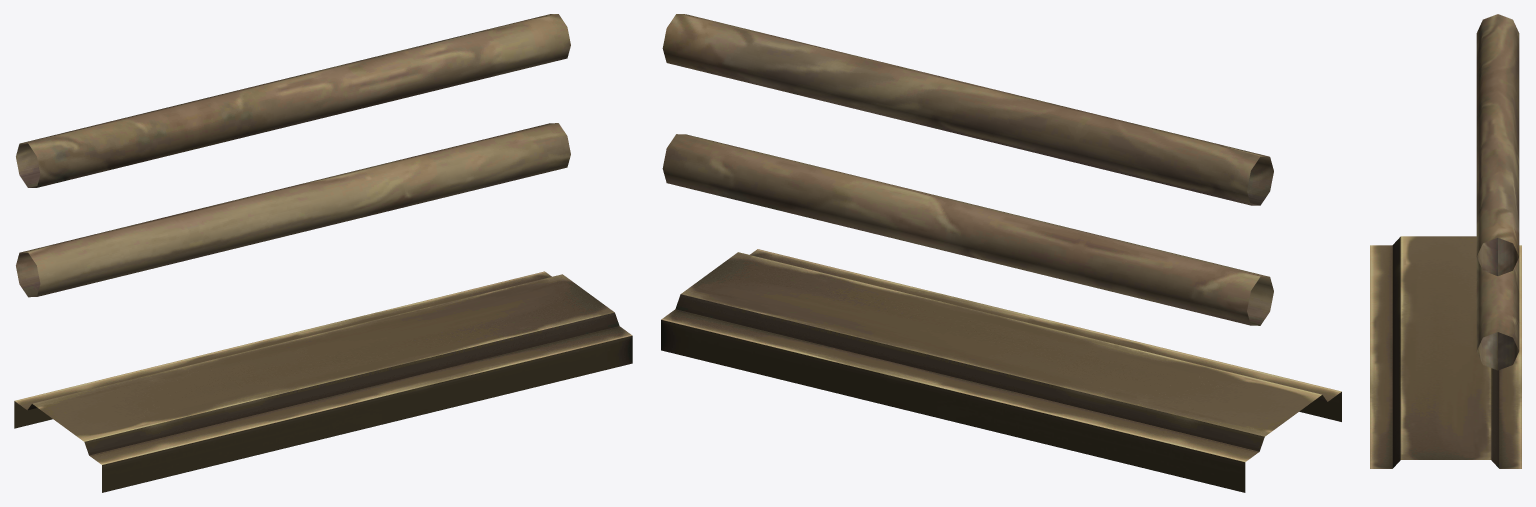
The model's file is trap_445_xbfence_02.fbx.
3 renders of one model, left to right at view 1: azimuth 30°, elevation 25°; view 2: azimuth 150°, elevation 25°; view 3: azimuth 270°, elevation 25°, orthographic. The views are drawn at different scales.
Parts seen in each view (by area): view 1: trap_445_xbfence_02; view 2: trap_445_xbfence_02; view 3: trap_445_xbfence_02.
Boxes of the visible parts, x1=… form: trap_445_xbfence_02: x1=14, y1=14, x2=632, y2=492; trap_445_xbfence_02: x1=661, y1=14, x2=1341, y2=492; trap_445_xbfence_02: x1=1370, y1=14, x2=1521, y2=468.
Bounding box in the file's own units: 0.7382 × 0.3927 × 0.2116.
1 material, 1 textured.
